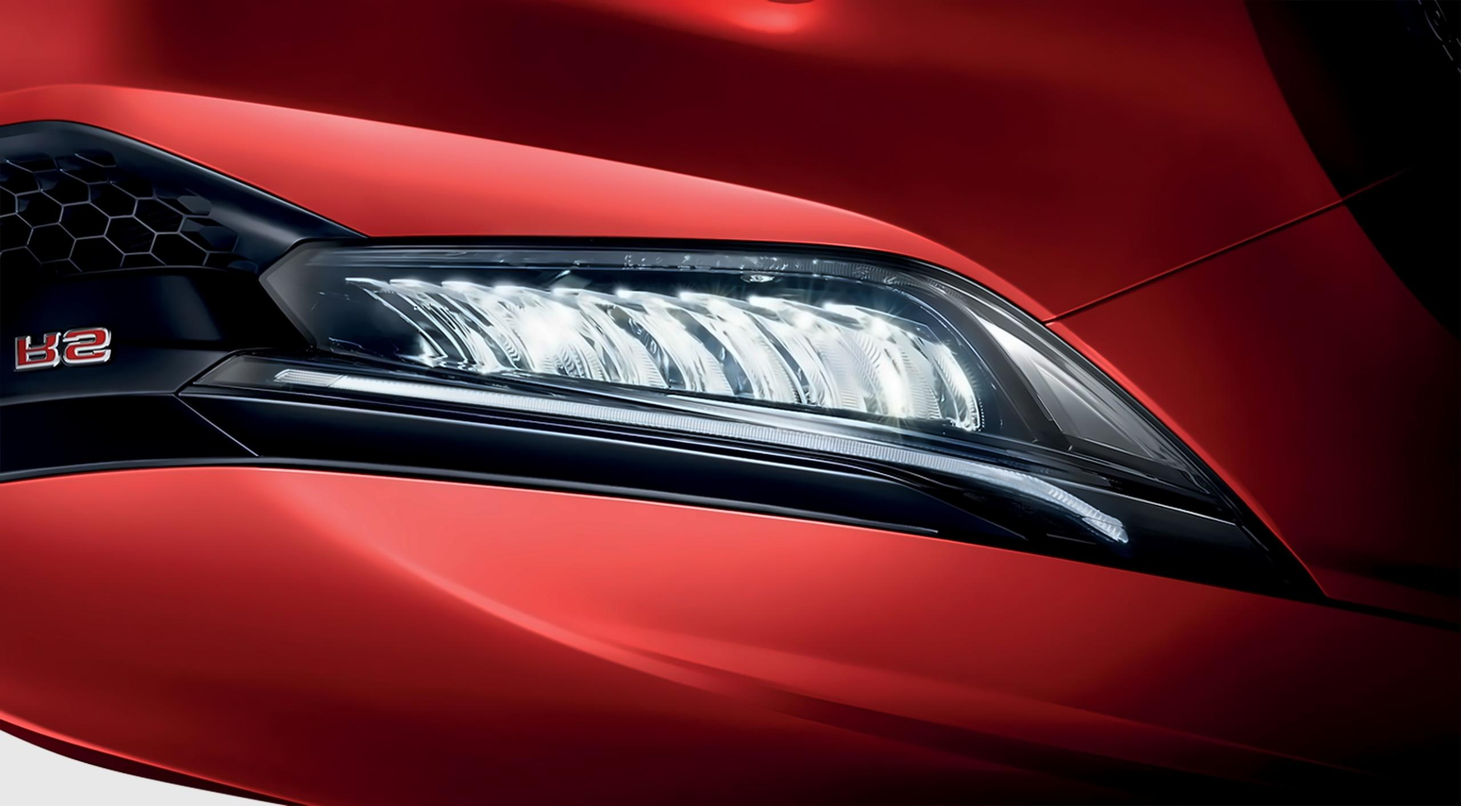Car hood: (0, 462, 1461, 806)
Front bumper: (0, 0, 1367, 314)
Headlight - -R-: (190, 209, 1163, 514)
